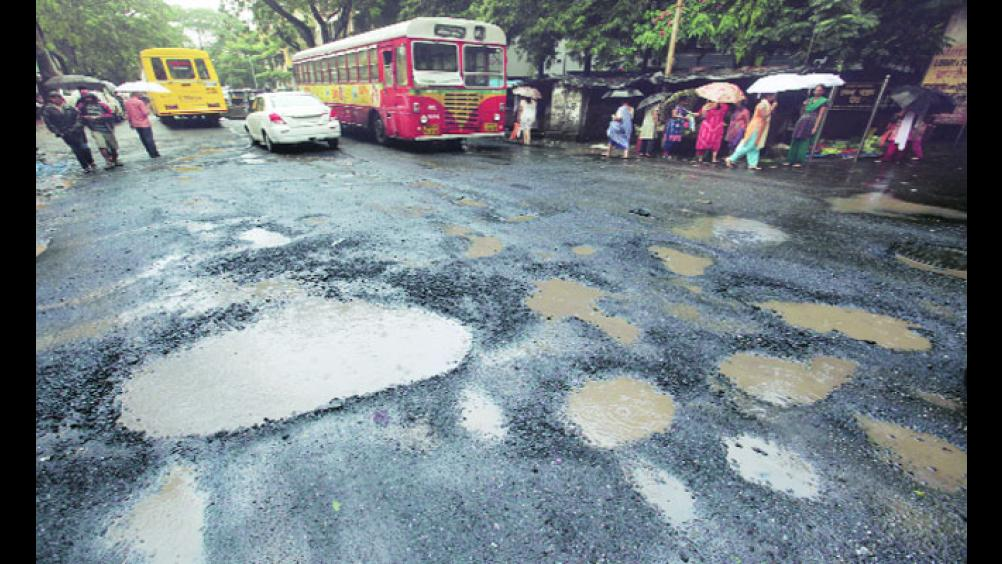pothole: (64, 279, 509, 449), (746, 286, 943, 369), (89, 464, 240, 563), (852, 400, 966, 526), (561, 354, 686, 463), (716, 419, 832, 525), (697, 341, 856, 409), (657, 202, 804, 269), (433, 212, 514, 278), (641, 238, 734, 292), (207, 208, 303, 253)
